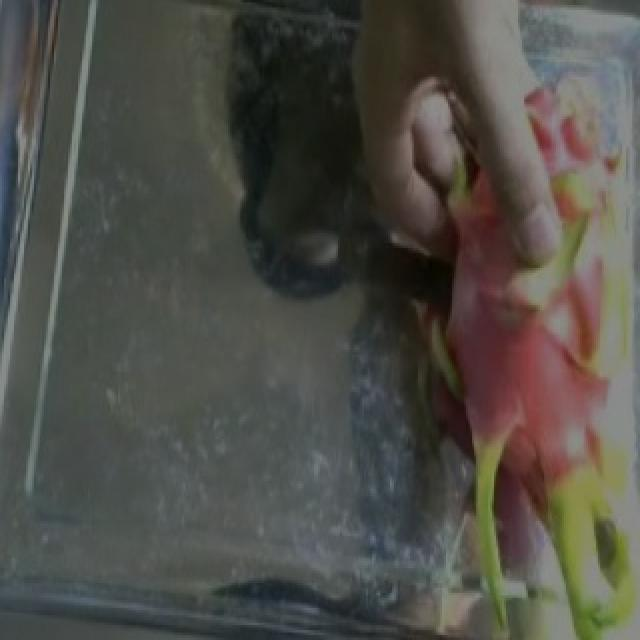fruit: (344, 228, 638, 640)
